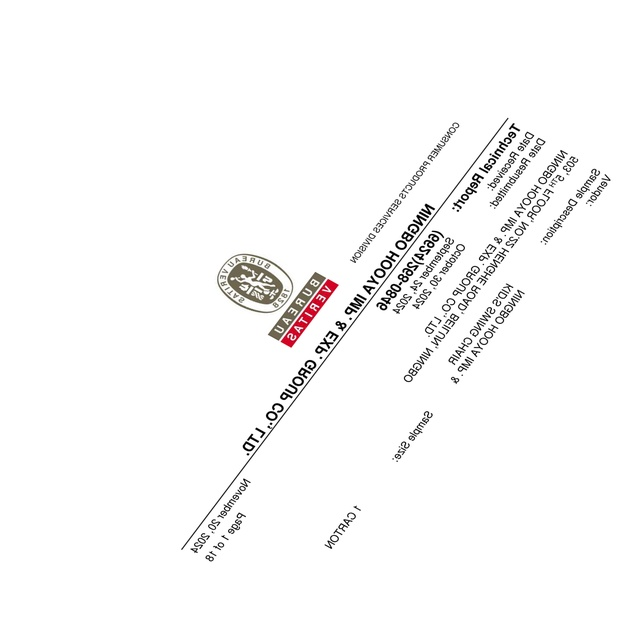bureau_veritas: (212, 247, 341, 356)
